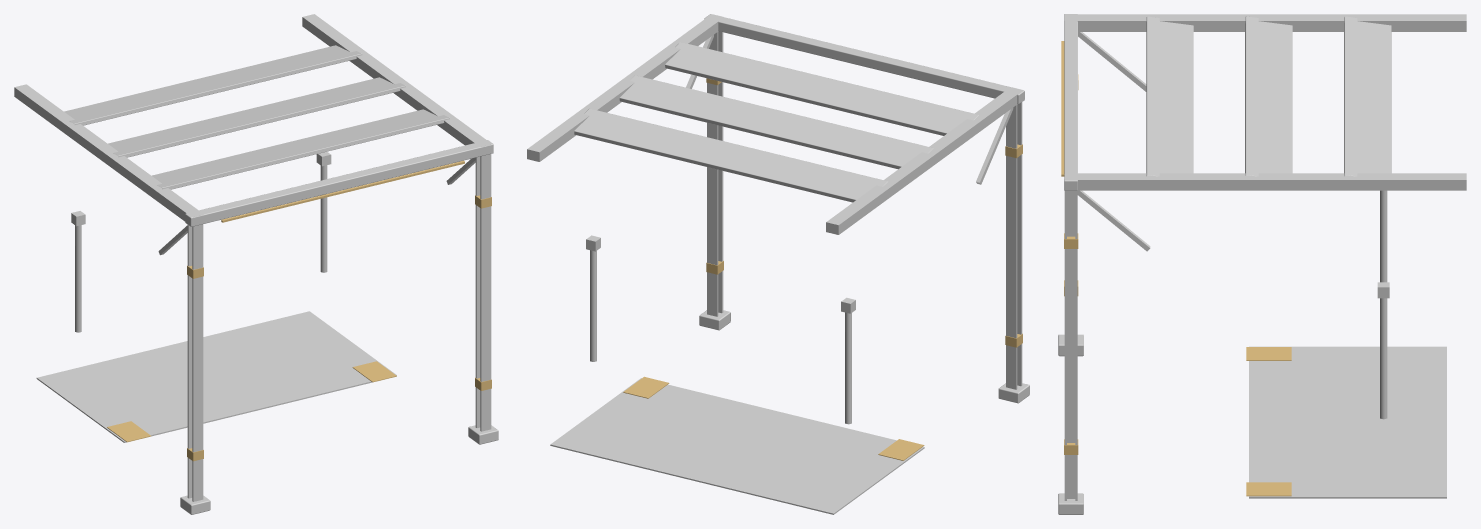
Rendered from ServiceBay.glb.
The picture shows the model from 3 angles, left to right: view 1: azimuth 30°, elevation 25°; view 2: azimuth 150°, elevation 25°; view 3: azimuth 270°, elevation 25°; orthographic projection. The views are drawn at different scales.
Visible parts, largest first — view 1: Body, Trim, Glow; view 2: Body, Trim; view 3: Body, Trim, Glow.
Part boxes in pixels (x1,y1,x2,y2): Body: (14,14,498,514); Trim: (107,195,491,461); Glow: (221,160,464,222); Body: (527,14,1029,514); Trim: (623,78,1022,460); Body: (1058,14,1466,514); Trim: (1064,74,1291,496); Glow: (1061,41,1064,176).
Size of the model in its own units: 20.3 by 18.69 by 20.65.
